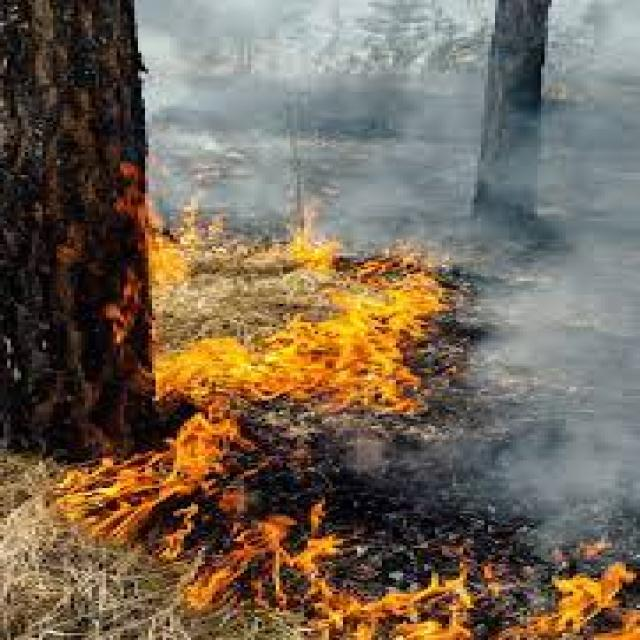Fire: (65, 173, 640, 640)
